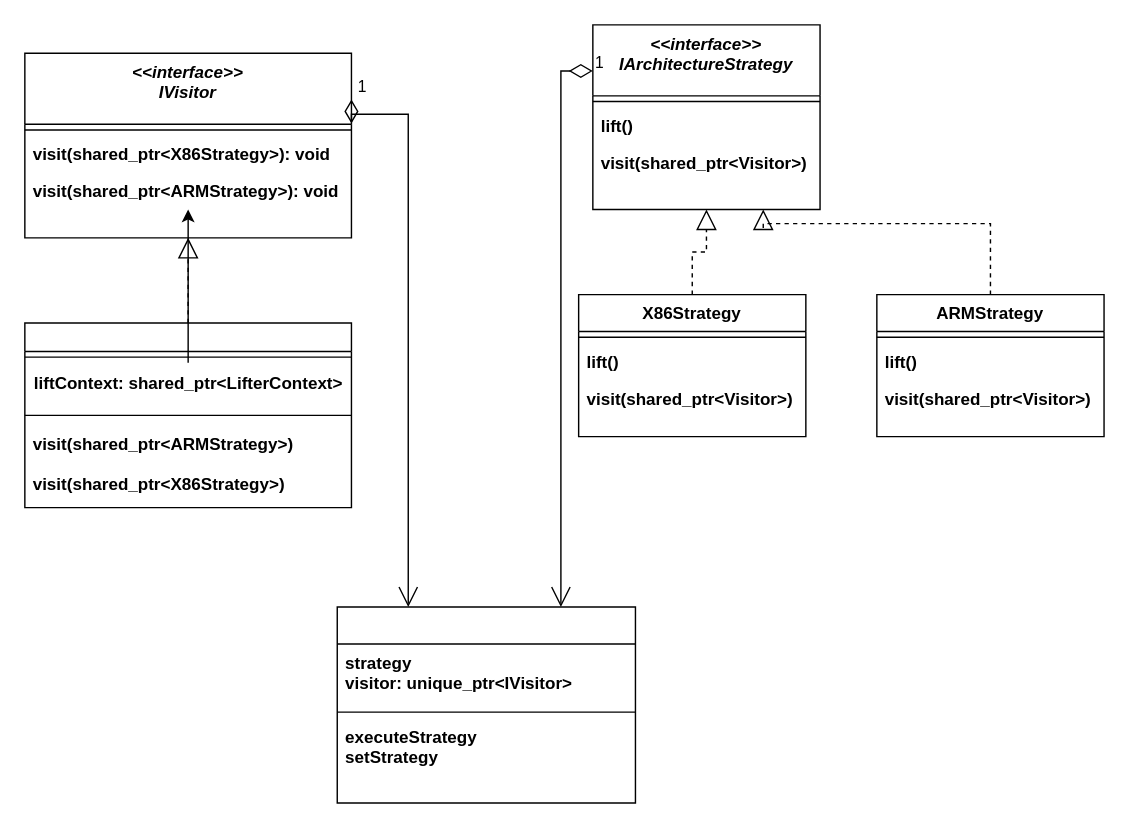
Image size: 1129x828. Some labels were removed from this diagram. The shapes that lost their labels are listed below. From the top down, each one's box as (x1, y1, x2, y2) in pixels, then its label:
(23, 322, 351, 508): ELFVisitor
(336, 606, 635, 803): LifterContext
